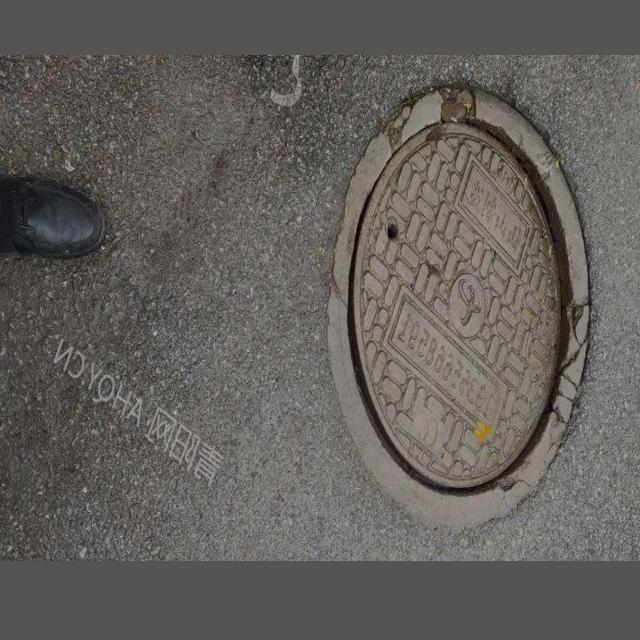circle: (311, 83, 627, 525)
